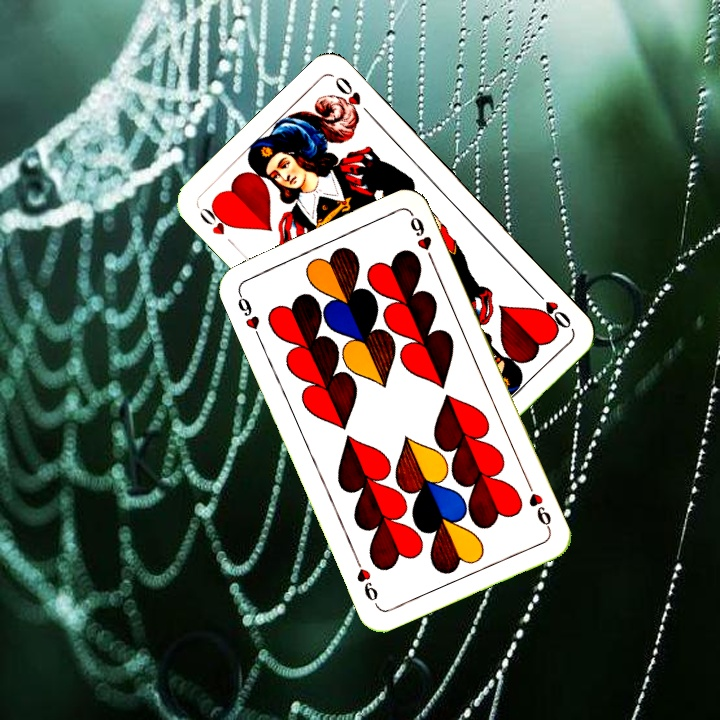H9: (522, 477, 554, 533), (233, 287, 264, 343)
HO: (195, 199, 239, 251), (529, 284, 574, 331)
